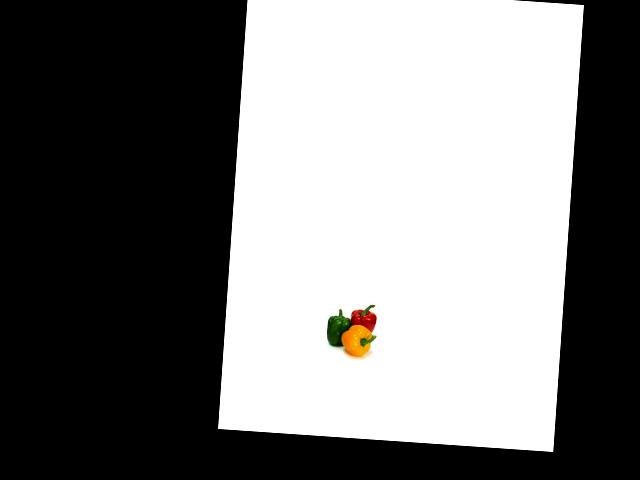bell_pepper: (345, 299, 382, 337)
